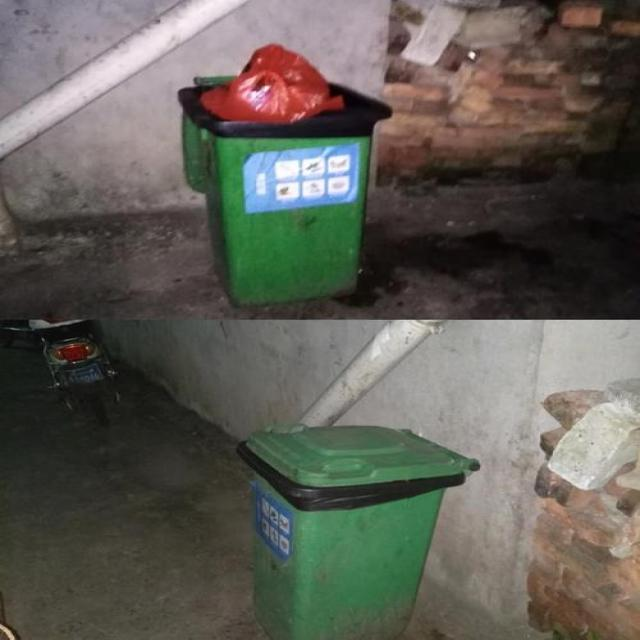garbage_bin: (237, 421, 477, 639)
overflow: (182, 44, 390, 306)
